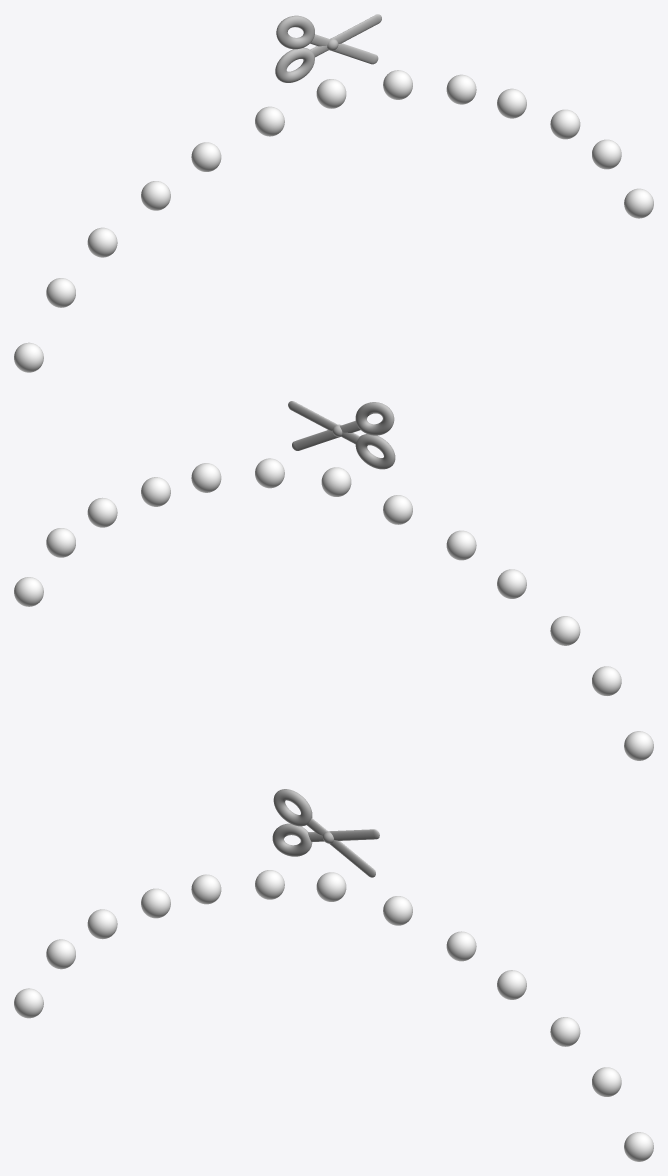
File: connected_new_scissor.fbx
3 renders of one model, top to bottom at view 1: azimuth 30°, elevation 25°; view 2: azimuth 150°, elevation 25°; view 3: azimuth 330°, elevation 25°, orthographic.
Visible parts, largest first — view 1: root (×13), node_id188, node_id187, node_id185, node_id186; view 2: root (×13), node_id188, node_id187, node_id185, node_id186; view 3: root (×13), node_id187, node_id188, node_id185, node_id186.
Boxes of the visible parts, x1,y1,x2,y2 form: root (×13): (14, 70, 653, 372); node_id188: (275, 47, 314, 82); node_id187: (276, 15, 314, 49); node_id185: (310, 34, 378, 64); node_id186: (310, 14, 381, 57); root (×13): (14, 458, 653, 760); node_id188: (355, 434, 395, 469); node_id187: (355, 402, 394, 435); node_id185: (292, 421, 360, 450); node_id186: (288, 401, 359, 444); root (×13): (14, 870, 653, 1161); node_id187: (273, 789, 312, 826); node_id188: (272, 823, 312, 856); node_id185: (307, 818, 375, 877); node_id186: (307, 829, 379, 841).
Size of the model in its own units: 0.6129 by 0.2688 by 0.025.
Materials: 18 (13 with a texture image).
